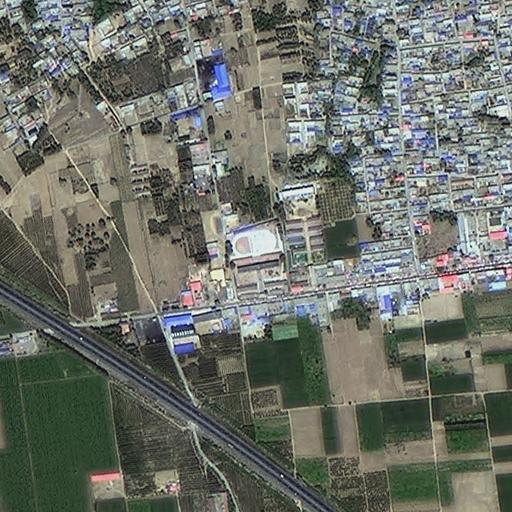school: (229, 223, 284, 297)
